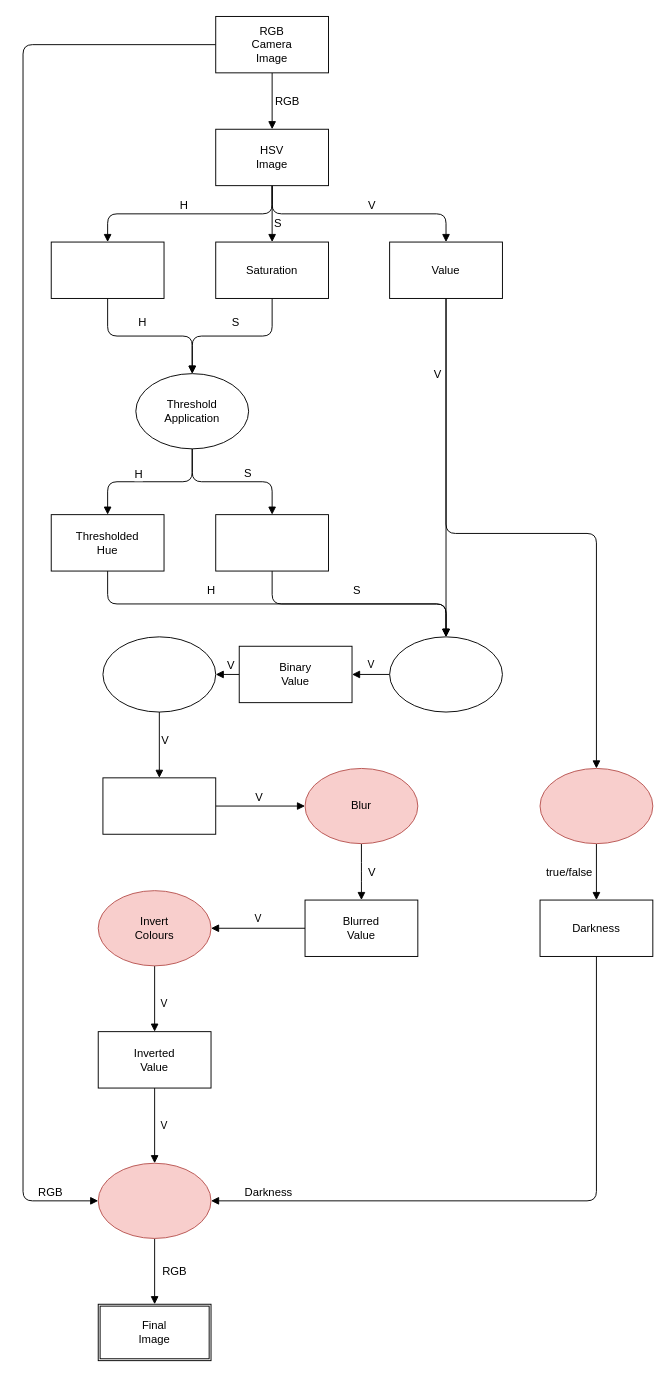
The diagram is 669 pixels wide and 1377 high, and some of its shapes have lost their labels. The shapes that lost their labels are listed below. From the top down, each one's box as (x1, y1, x2, y2) in pixels, then its label:
(50, 241, 164, 298): Hue
(215, 514, 329, 571): Thresholded Saturation
(102, 636, 216, 712): Erode
(389, 636, 502, 712): Logical AND
(102, 777, 216, 834): Eroded Value
(539, 768, 653, 844): Darkness Detection
(97, 1162, 211, 1238): Blob Detection
